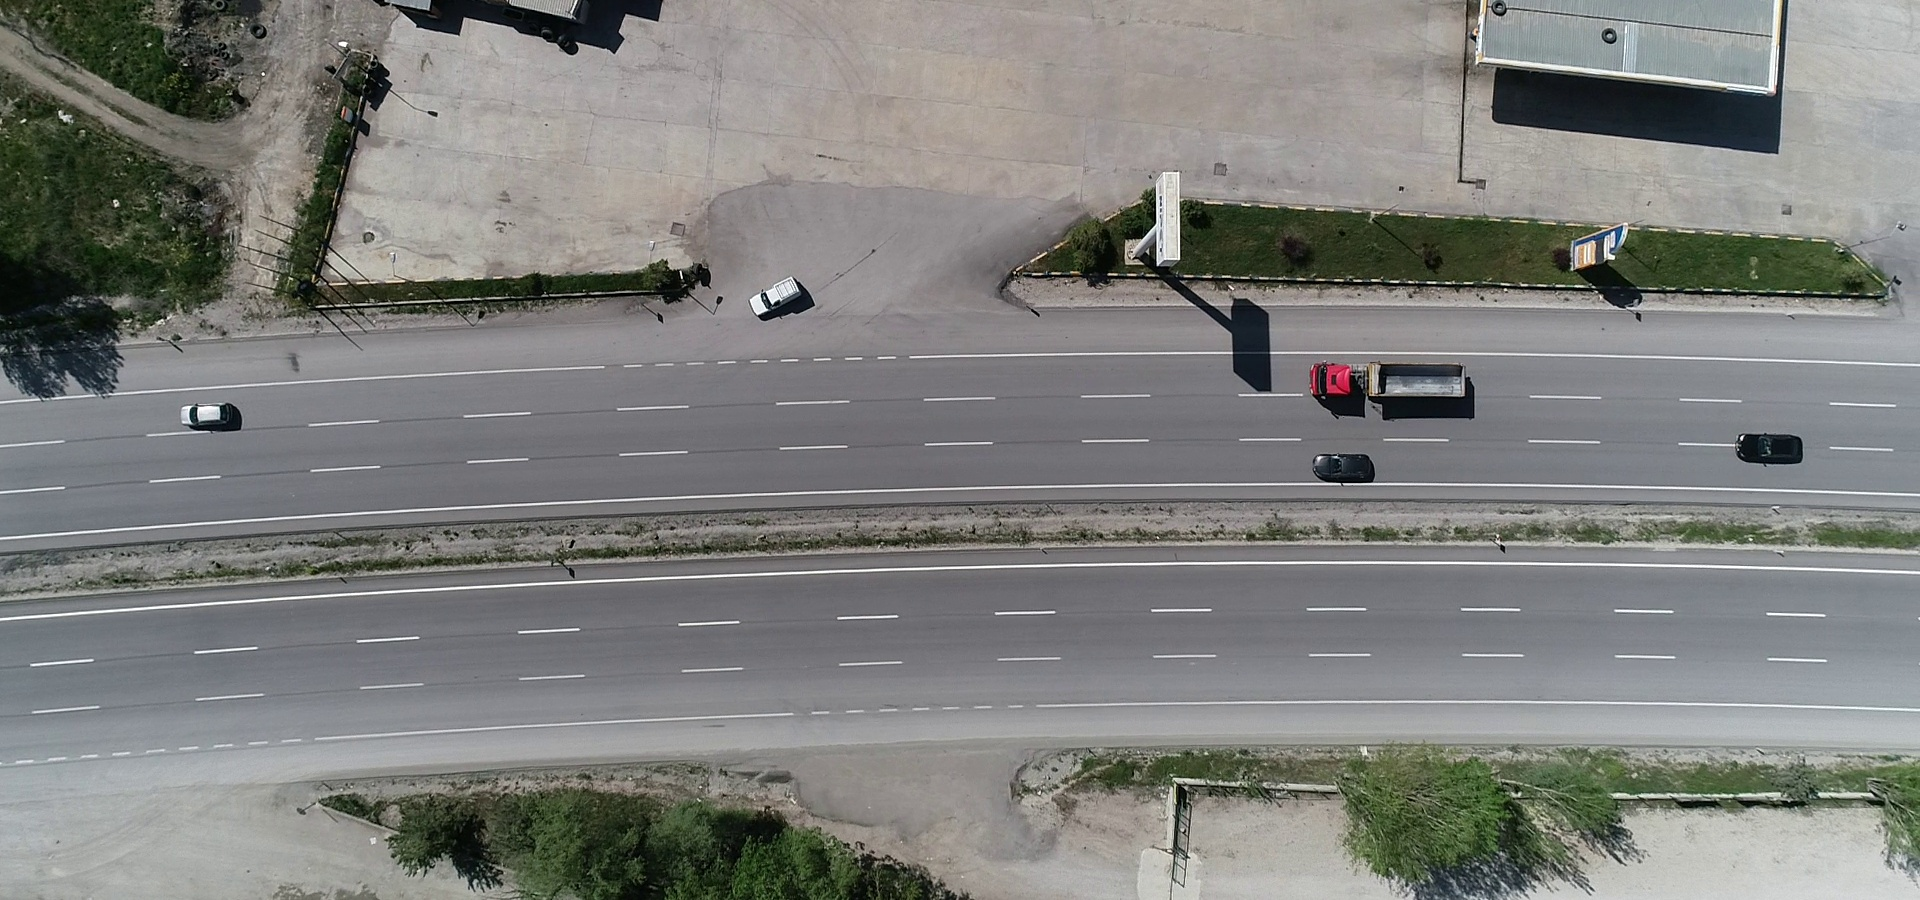arac: (1307, 360, 1482, 407), (748, 276, 823, 320), (1738, 429, 1813, 467), (1305, 453, 1382, 489), (178, 397, 246, 435)
